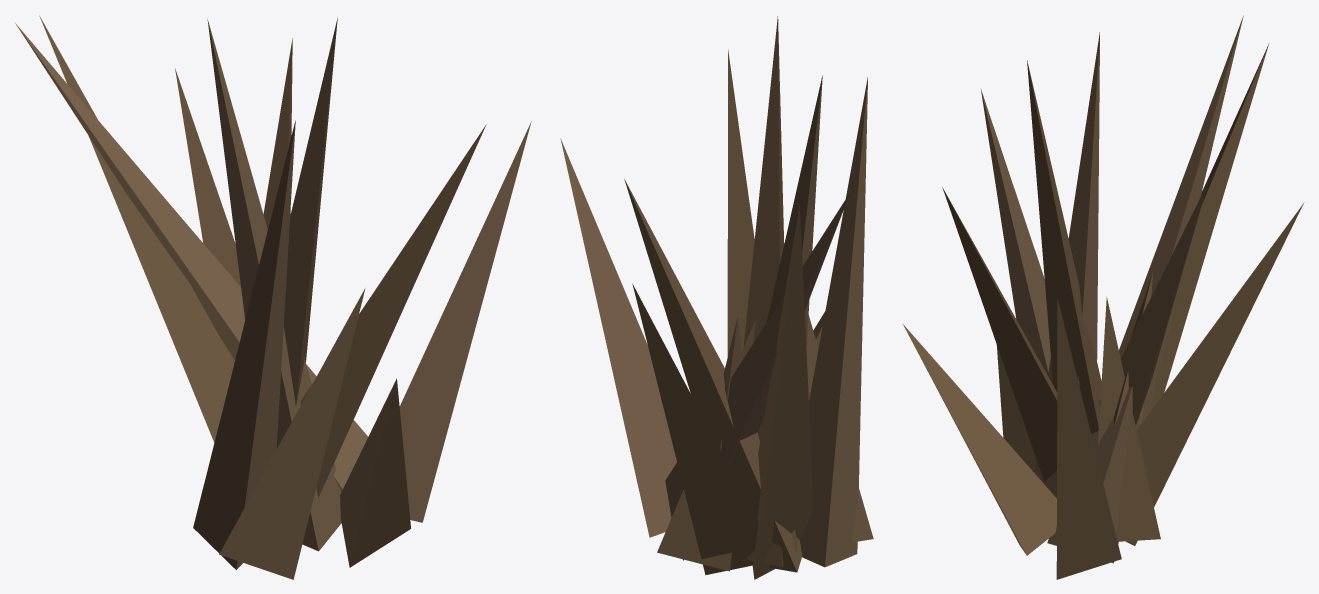
The model's file is grass_tuft_b.glb.
The picture shows the model from 3 angles, left to right: view 1: azimuth 30°, elevation 25°; view 2: azimuth 150°, elevation 25°; view 3: azimuth 270°, elevation 25°; orthographic projection. The views are drawn at different scales.
Parts seen in each view (by area): view 1: grass_tuft_b; view 2: grass_tuft_b; view 3: grass_tuft_b.
Part boxes in pixels (left/top/right/bottom): grass_tuft_b: left=15, top=15, right=531, bottom=579; grass_tuft_b: left=560, top=16, right=873, bottom=579; grass_tuft_b: left=902, top=15, right=1304, bottom=579.
Bounding box in the file's own units: 0.3629 × 0.464 × 0.35.
1 material, 1 textured.
